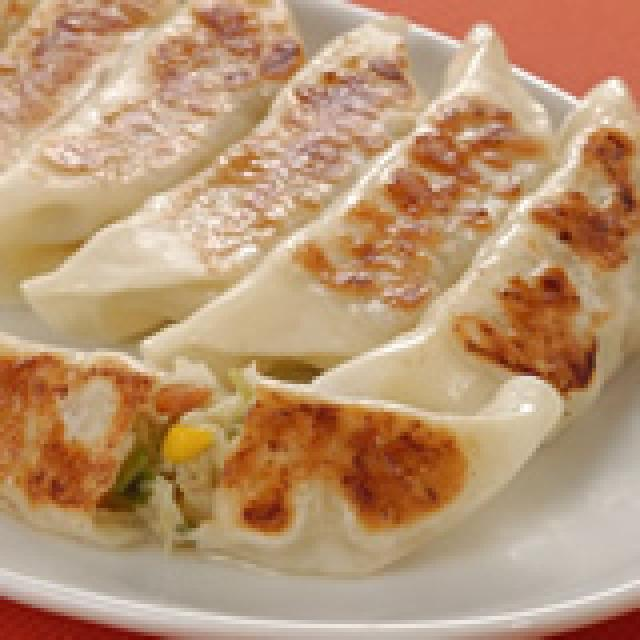带馅早点: (0, 0, 640, 596)
